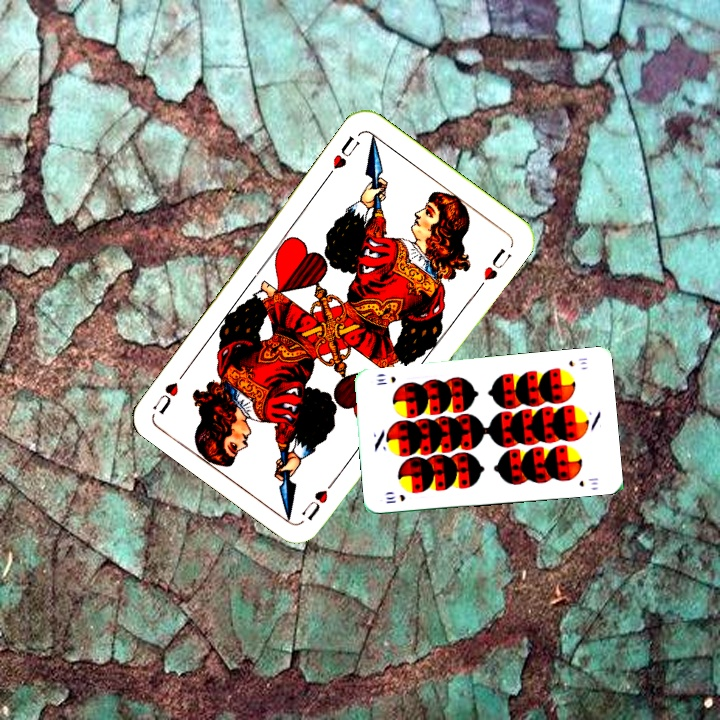HU: (297, 473, 340, 523), (322, 132, 363, 181)
S10: (382, 490, 408, 506), (565, 354, 590, 369)
